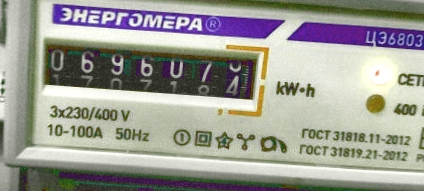0: (47, 46, 65, 71), (166, 53, 183, 79)
4: (222, 72, 240, 97)
6: (136, 51, 155, 77), (77, 48, 95, 73)
7: (196, 57, 213, 84)
9: (106, 50, 124, 75)
screen: (26, 23, 272, 114)
